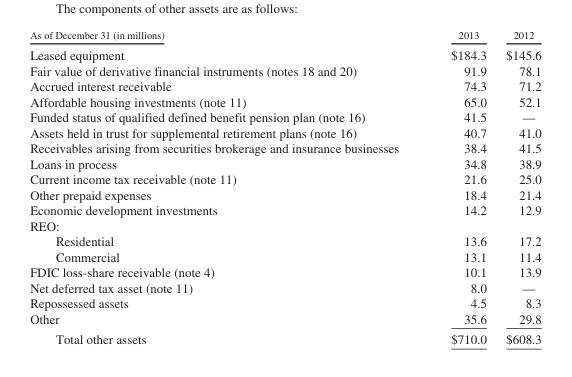table: (29, 29, 540, 346)
table column: (29, 29, 424, 346), (424, 29, 495, 346), (495, 29, 540, 346)
table column header: (29, 29, 540, 43)
table projected row header: (29, 217, 540, 232)
table row: (29, 43, 540, 62), (29, 310, 540, 328), (29, 328, 540, 346), (29, 77, 540, 93), (29, 108, 540, 124), (29, 139, 540, 155), (29, 170, 540, 186), (29, 201, 540, 217), (29, 232, 540, 248), (29, 263, 540, 279), (29, 294, 540, 310), (29, 62, 540, 77), (29, 93, 540, 108), (29, 124, 540, 139), (29, 155, 540, 170), (29, 186, 540, 201), (29, 217, 540, 232), (29, 248, 540, 263), (29, 279, 540, 294), (29, 29, 540, 43)
